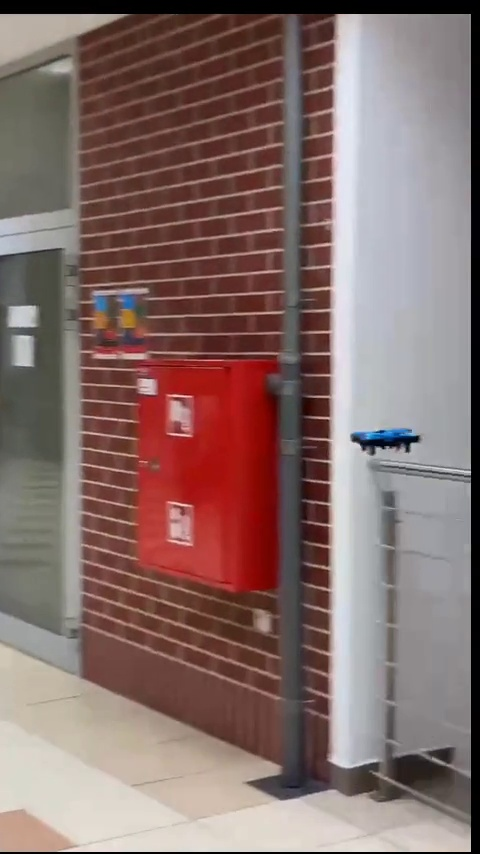drone: (351, 427, 421, 455)
